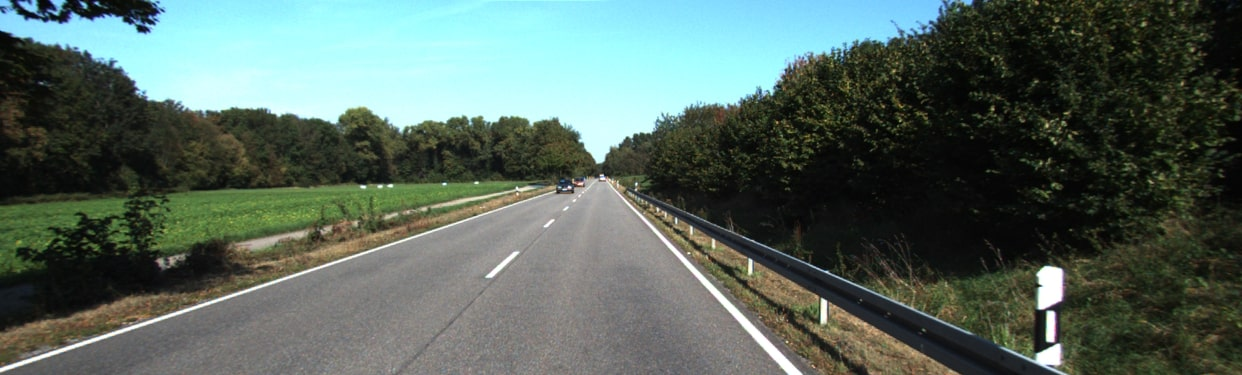car: (555, 176, 572, 195), (574, 177, 589, 190)
